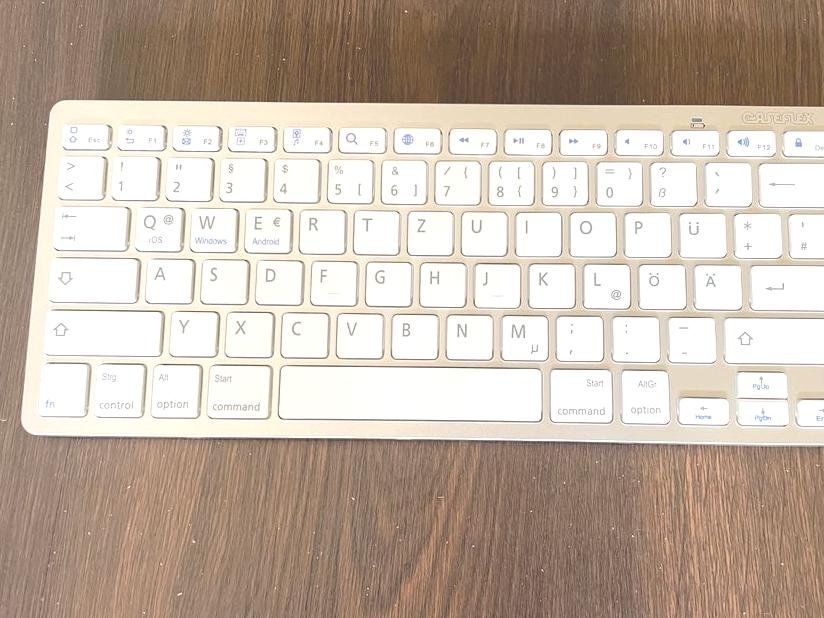0: (594, 159, 643, 205)
1: (110, 153, 158, 199)
2: (164, 154, 212, 200)
3: (217, 154, 266, 200)
4: (272, 155, 319, 201)
5: (325, 156, 373, 202)
6: (379, 157, 427, 203)
7: (433, 158, 481, 203)
8: (486, 159, 535, 204)
9: (540, 159, 589, 205)
a: (143, 256, 193, 302)
accent: (703, 159, 751, 205)
ae: (691, 262, 742, 309)
alt-left: (148, 360, 202, 418)
altgr-right: (619, 365, 671, 423)
b: (388, 311, 438, 358)
c: (278, 309, 329, 356)
caret: (56, 153, 104, 198)
comma: (552, 312, 603, 360)
d: (253, 257, 302, 304)
del: (757, 160, 824, 206)
e: (242, 204, 292, 252)
enter: (748, 262, 824, 309)
f: (308, 257, 356, 305)
g: (362, 258, 410, 305)
h: (417, 259, 465, 306)
hash: (787, 211, 824, 257)
i: (513, 209, 560, 255)
j: (472, 260, 519, 307)
k: (526, 260, 574, 307)
keyboard: (14, 93, 824, 453)
l: (581, 261, 630, 308)
m: (497, 311, 548, 360)
minus: (664, 314, 716, 362)
n: (443, 311, 492, 358)
o: (566, 208, 615, 255)
oe: (635, 261, 685, 309)
p: (622, 210, 670, 255)
plus: (731, 210, 781, 256)
point: (608, 314, 660, 361)
q: (132, 203, 185, 251)
r: (297, 206, 345, 253)
s: (198, 256, 247, 303)
shift-left: (41, 306, 164, 355)
shift-lock: (46, 254, 137, 301)
shift-right: (722, 314, 824, 363)
space: (278, 362, 542, 421)
ss: (648, 159, 696, 205)
strg-left: (92, 360, 146, 417)
t: (351, 207, 398, 253)
tab: (51, 202, 127, 248)
u: (458, 208, 506, 255)
ue: (676, 210, 725, 257)
v: (333, 310, 383, 357)
w: (188, 203, 237, 251)
x: (223, 308, 273, 356)
y: (167, 308, 218, 355)
z: (404, 208, 453, 254)
